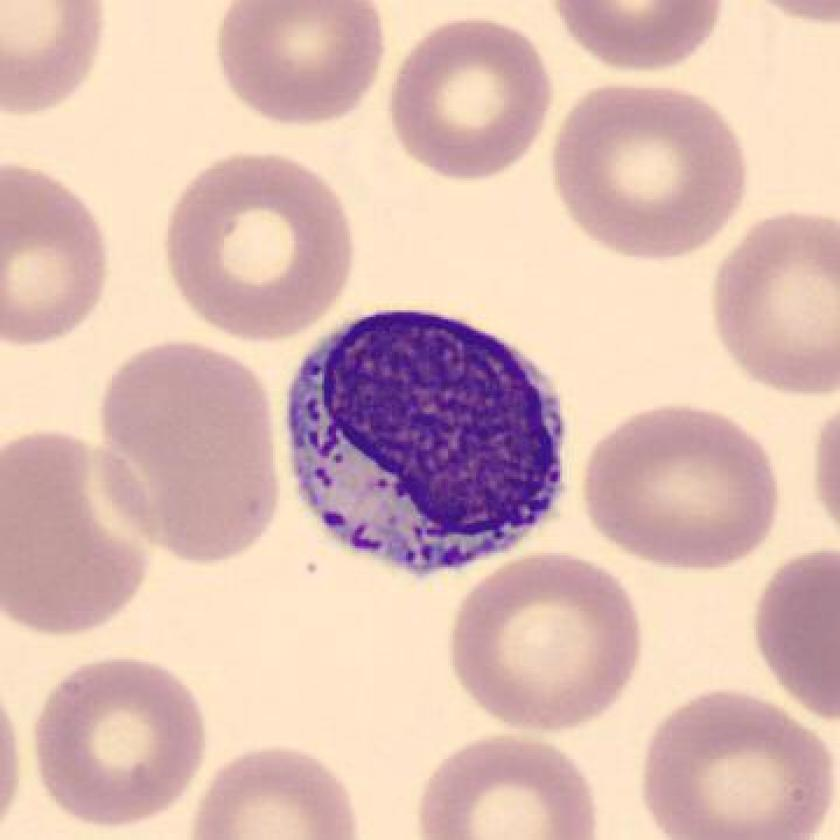lymphocyte: (272, 295, 580, 593)
